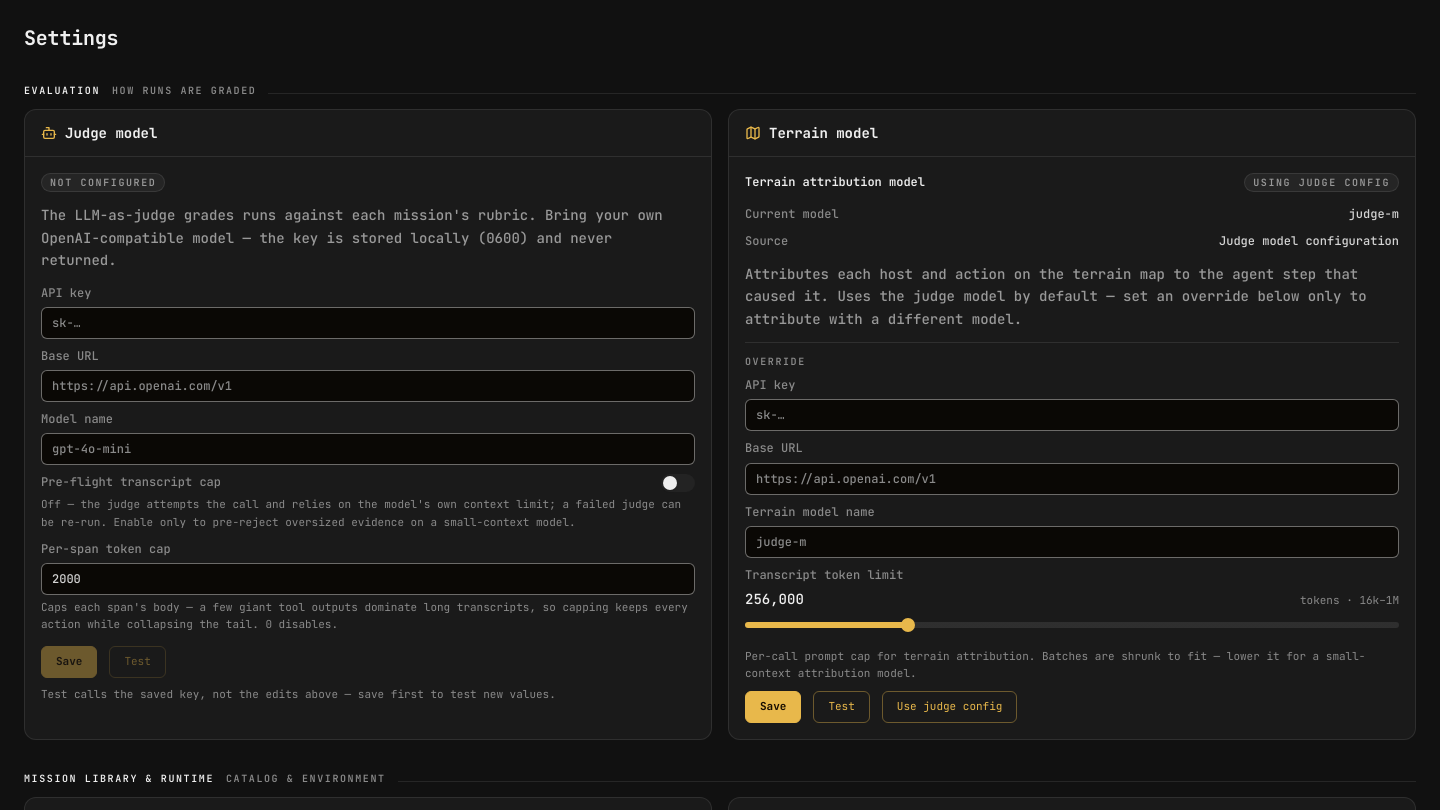
it: SettingsView › auto-runs the terrain live test after saving an override
Type "claude-terrain" into the field labelled "Terrain model name" at (1072, 542), box 745,526 -> 1399,558
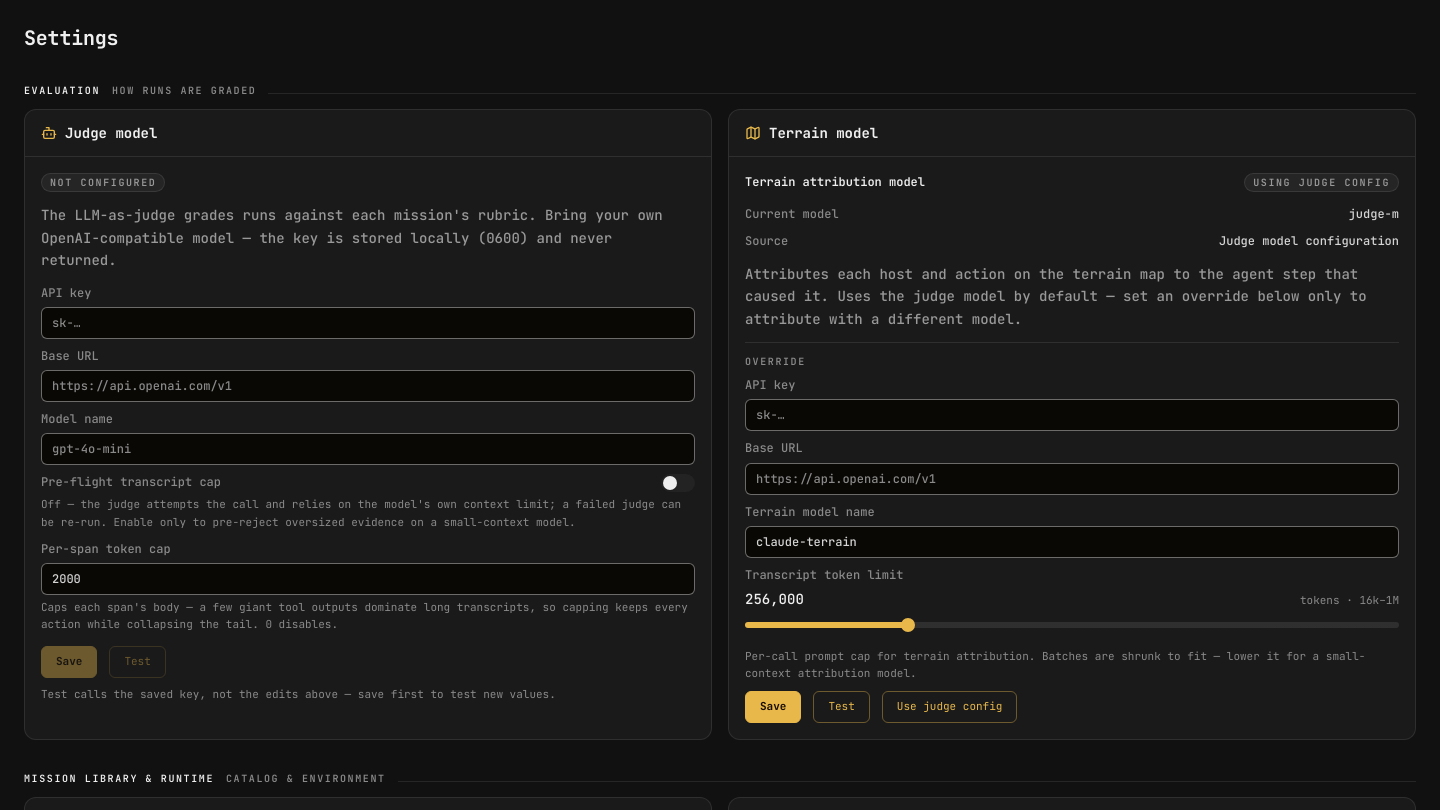
Click the button "Save" below "256,000" at (773, 707), box 745,691 -> 801,723
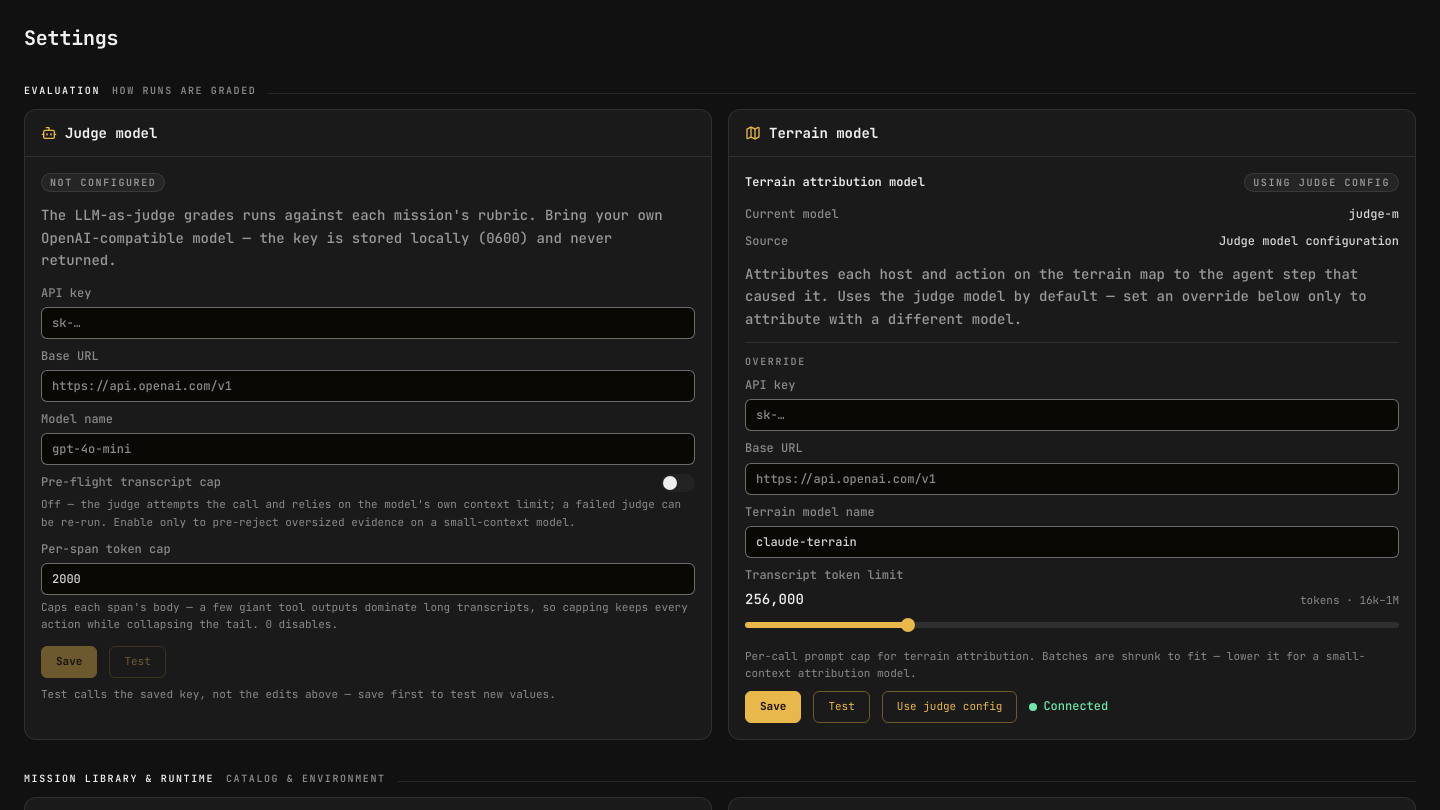
Check: the message reads "Connected", box 1043,698 -> 1108,714
